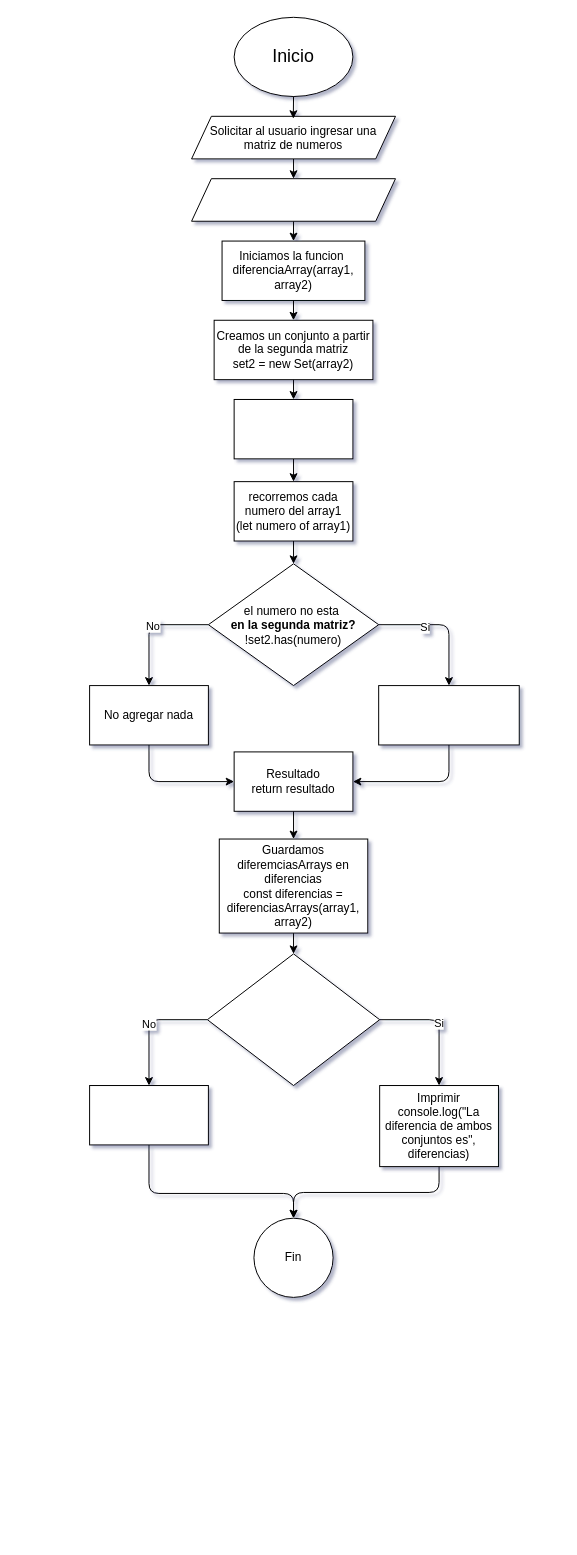
Image size: 577x1555. Some labels were removed from this diagram. Here are the shapes that lost their labels. From the top down, the centre of each, then its label:
point (293, 199): Solicitar al usuario ingresar una segunda matriz de numeros
point (293, 428): Creamos una matriz donde guardar los resultados resultado = [];
point (448, 715): Agregar el resultado a push resutado.push(numero)
point (293, 1019): Hay diferencias en la los arrays? diferencias.length === 0?
point (148, 1115): Imprimir consol.log("No hay diferencias entre ambos conjuntos")
